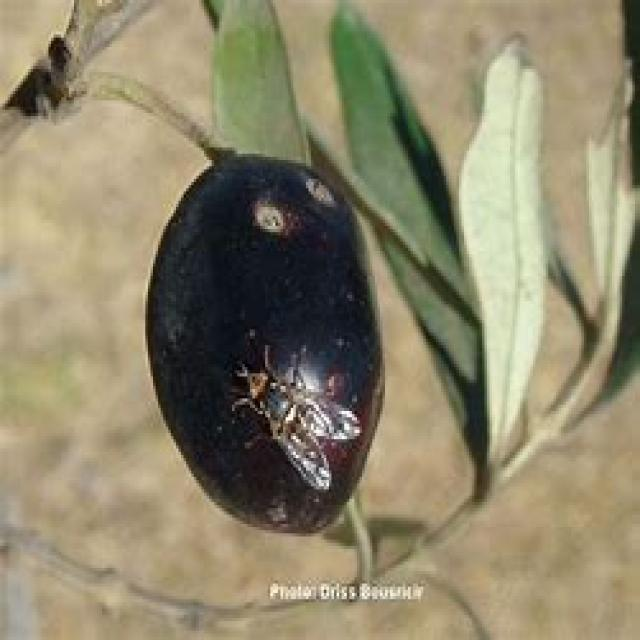Olive Fruit Fly: (145, 160, 382, 533)
